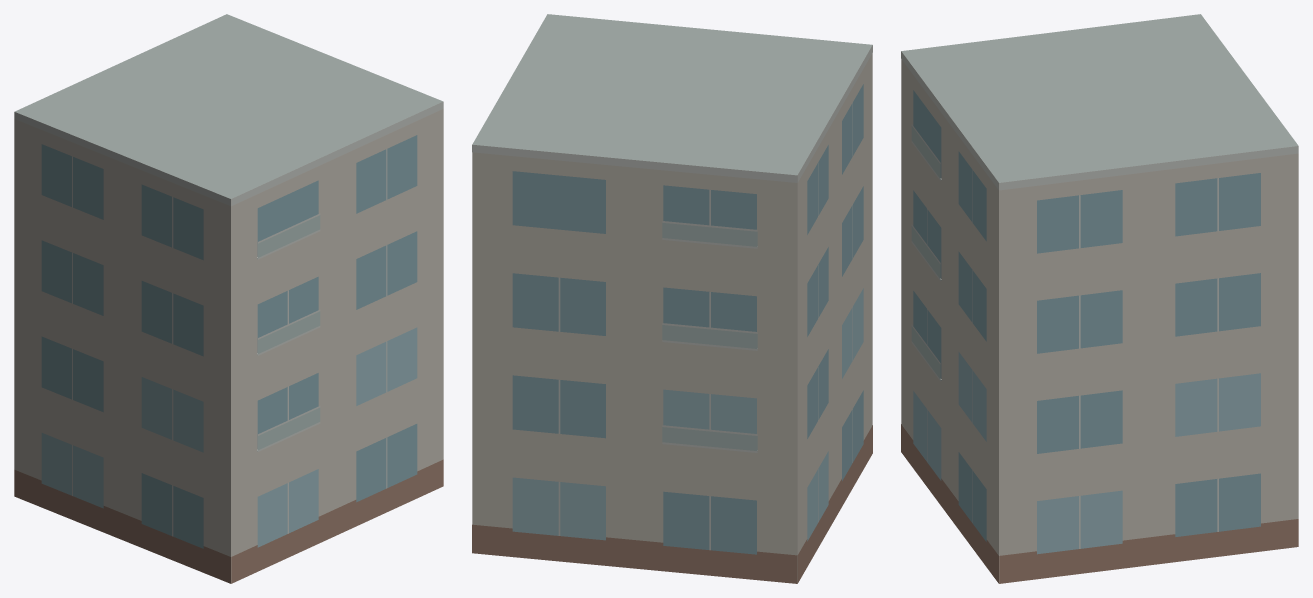
The model's file is survey-upis-32533158.glb.
3 views of the same model, side by side, from view 1: azimuth 30°, elevation 25°; view 2: azimuth 150°, elevation 25°; view 3: azimuth 270°, elevation 25° (orthographic). The views are drawn at different scales.
Parts seen in each view (by area): view 1: survey-upis-32533158.tmp; view 2: survey-upis-32533158.tmp; view 3: survey-upis-32533158.tmp.
Boxes of the visible parts, x1,y1,x2,y2 form: survey-upis-32533158.tmp: (14,14,443,583); survey-upis-32533158.tmp: (472,14,872,583); survey-upis-32533158.tmp: (901,14,1298,583).
Size of the model in its own units: 11.76 by 13 by 11.69.
